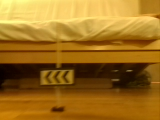left: (39, 69, 77, 85)
